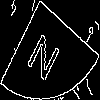N: (25, 25, 66, 83)
